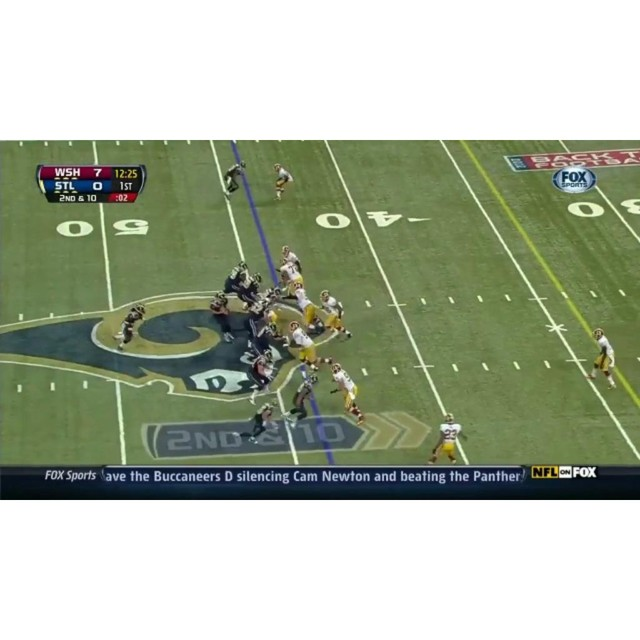american-football-player: (288, 321, 331, 373), (330, 363, 365, 426), (428, 413, 465, 466), (586, 328, 616, 389), (293, 286, 327, 336), (284, 374, 317, 425), (246, 349, 277, 403), (112, 304, 146, 353), (241, 322, 281, 363), (320, 290, 352, 341), (209, 291, 235, 343), (248, 402, 279, 443), (222, 161, 247, 202), (279, 260, 303, 299), (222, 261, 248, 297), (238, 273, 263, 308), (273, 163, 293, 201)
